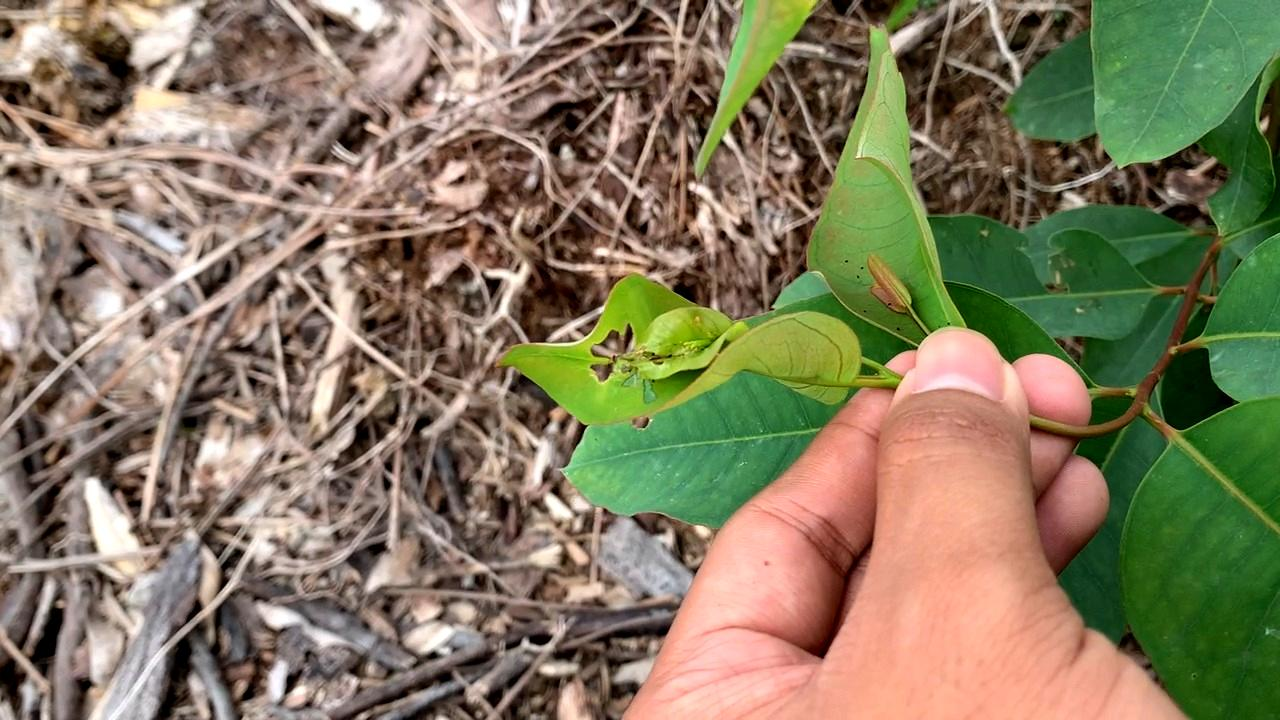Leaf Roller - Leaf: (498, 271, 859, 433)
